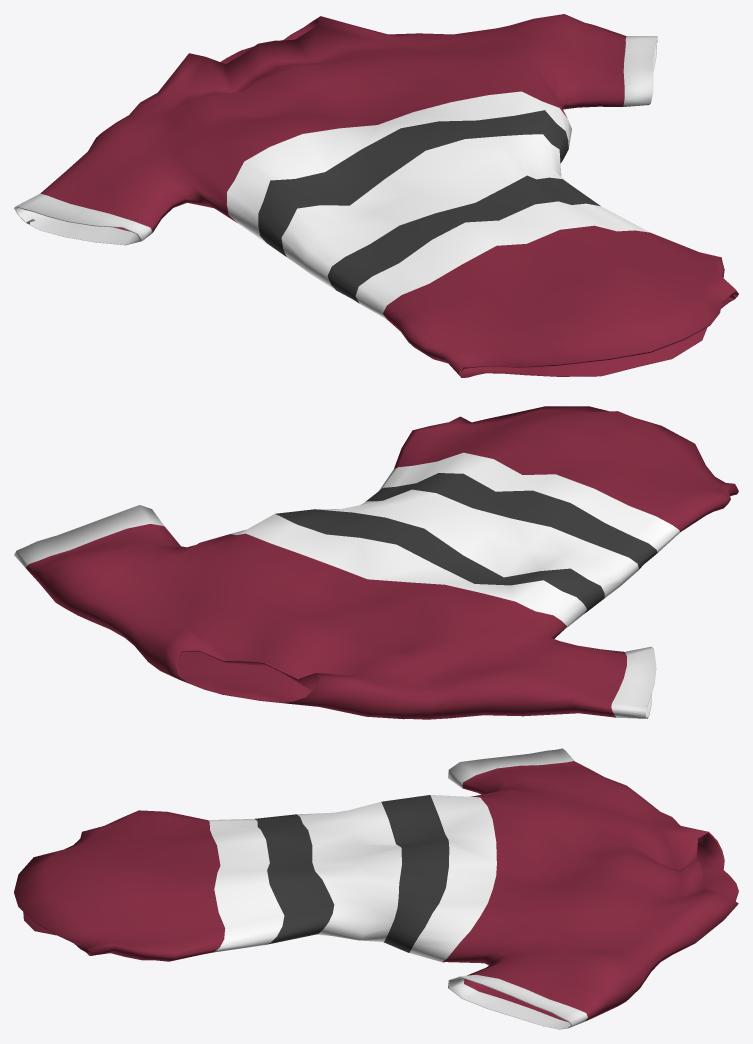
The model's file is Remera corta.fbx.
3 renders of one model, top to bottom at view 1: azimuth 30°, elevation 25°; view 2: azimuth 150°, elevation 25°; view 3: azimuth 270°, elevation 25°, orthographic. The views are drawn at different scales.
Visible parts, largest first — view 1: Camisa corta; view 2: Camisa corta; view 3: Camisa corta.
Boxes of the visible parts, bbox=[...] form: Camisa corta: bbox=[14, 14, 738, 377]; Camisa corta: bbox=[14, 406, 738, 719]; Camisa corta: bbox=[14, 748, 738, 1029].
Bounding box in the file's own units: 42.38 × 4.1 × 45.96.
